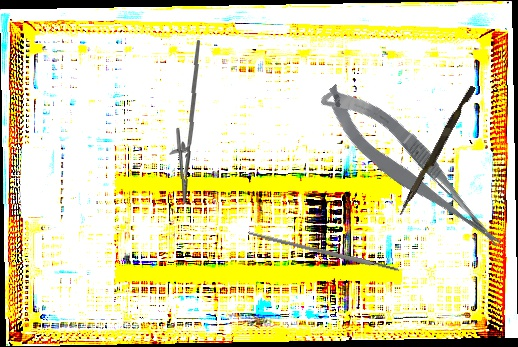Micro Scissor: (314, 67, 509, 272)
Needle Holder: (164, 39, 207, 205)
Pusher: (397, 83, 477, 219)
Scalpel Handle: (247, 230, 400, 274)
